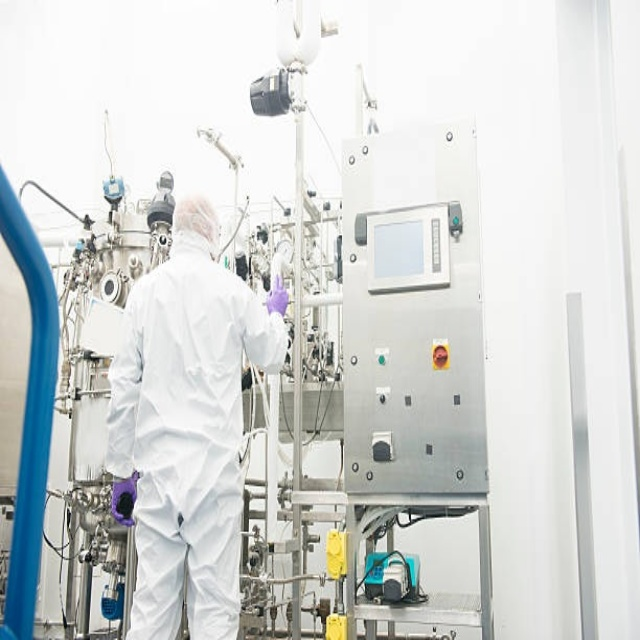Guantes: (111, 471, 139, 527), (265, 274, 289, 318)
